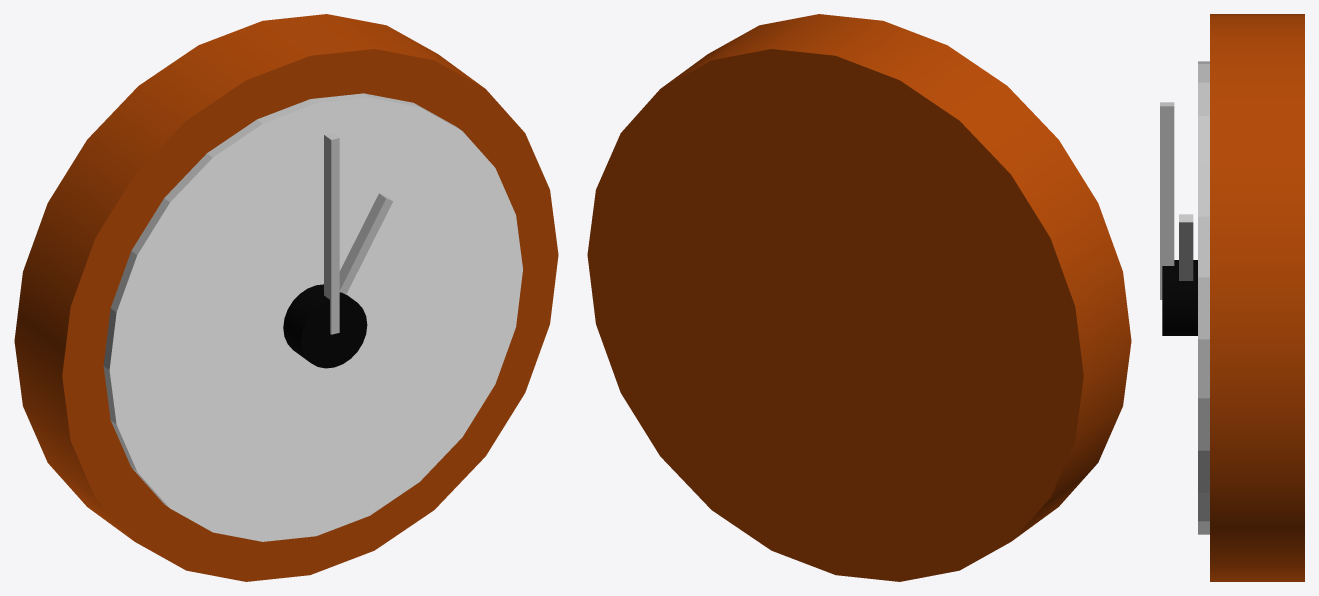
Rendered from Clock.fbx.
3 renders of one model, left to right at view 1: azimuth 30°, elevation 25°; view 2: azimuth 150°, elevation 25°; view 3: azimuth 270°, elevation 25°, orthographic.
Parts seen in each view (by area): view 1: Clock; view 2: Clock; view 3: Clock.
Part boxes in pixels (<box>): Clock: <box>14,14,558,581</box>; Clock: <box>587,14,1131,581</box>; Clock: <box>1160,14,1304,581</box>.
Bounding box in the file's own units: 2400 × 2400 × 610.
